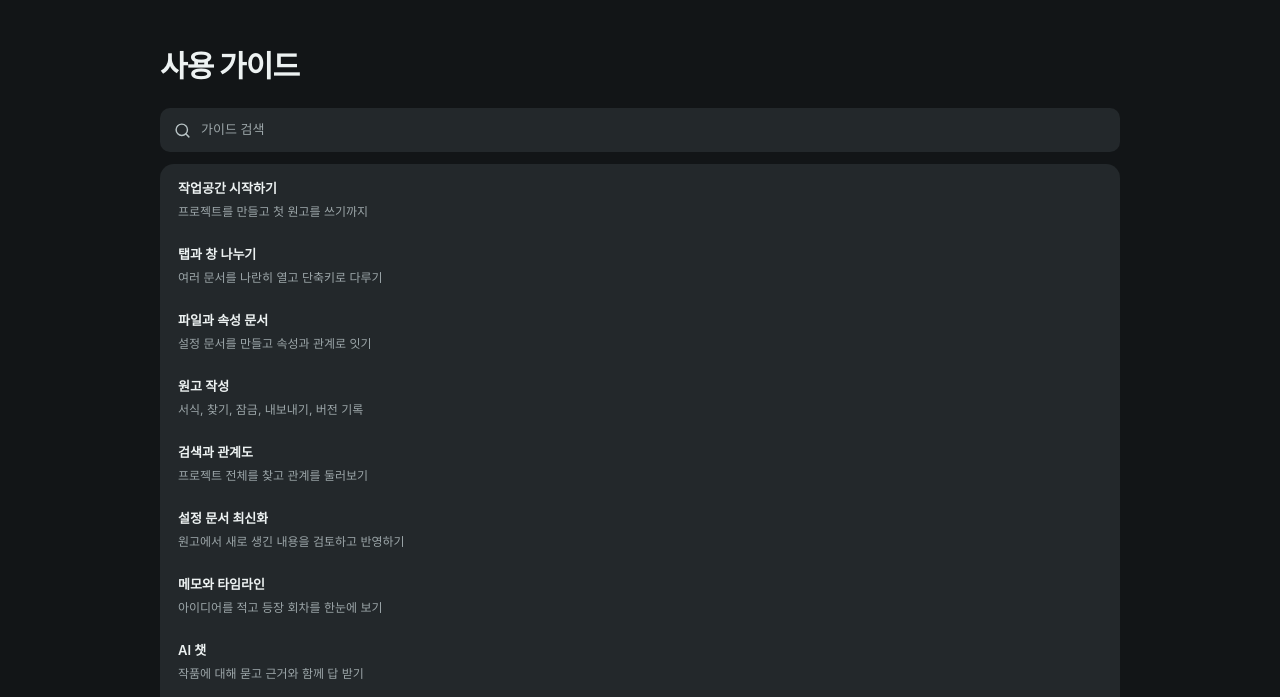
Test case: WorkspaceHelpView › dates a topic in Korean
Click the button "메모와 타임라인 아이디어를 적고 등장 회차를 한눈에 보기". click: coordinates (222, 584)
box: [164,564,1116,628]
(page scrolled)
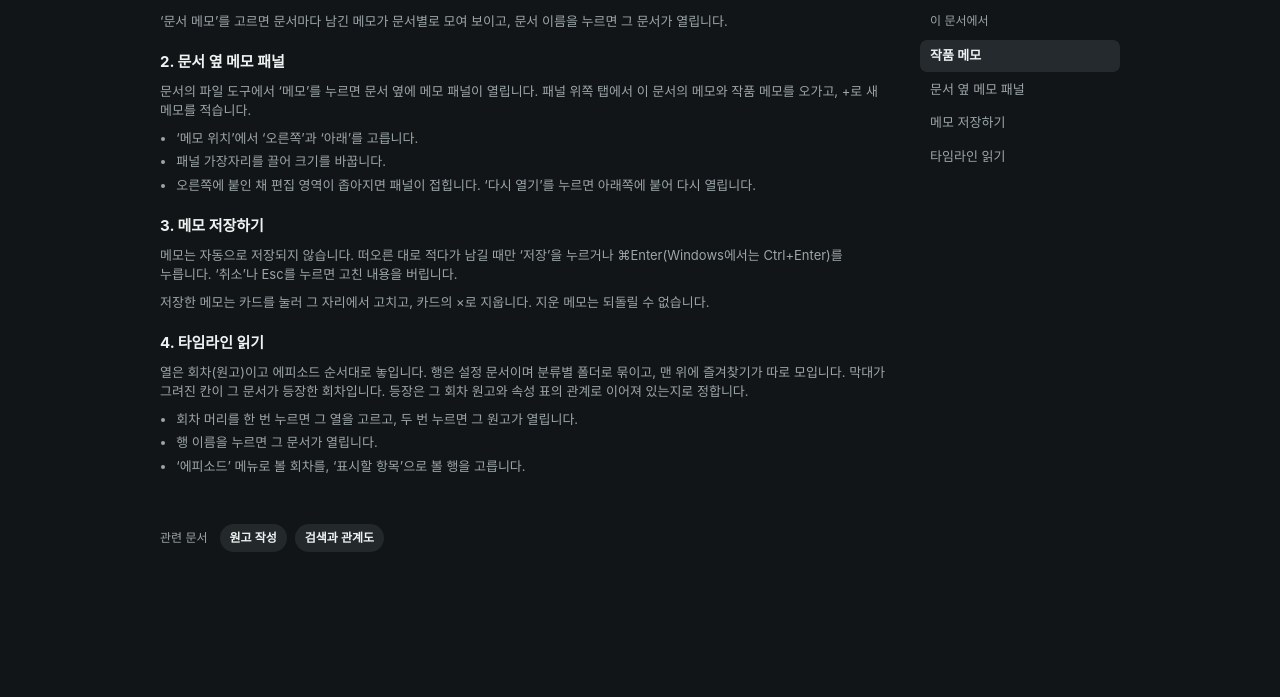
Check: the navigation bar "관련 문서" reads "관련 문서 원고 작성 검색과 관계도", box [160,524,384,552]
